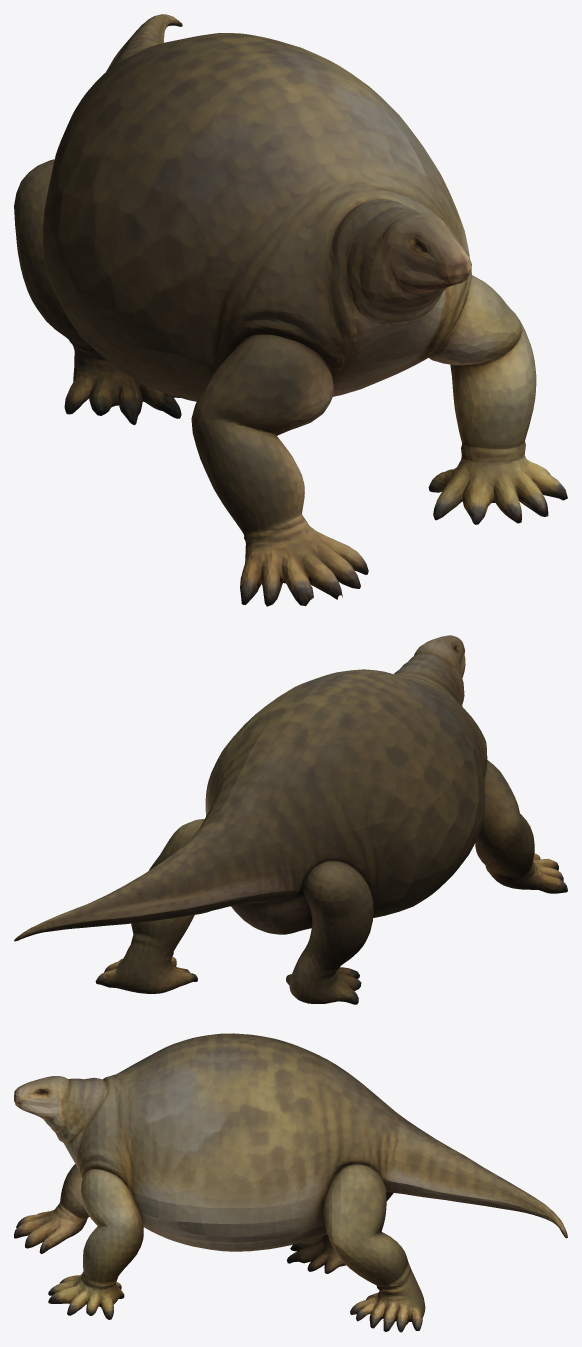
3 views of the same model, one above another, from view 1: azimuth 30°, elevation 25°; view 2: azimuth 150°, elevation 25°; view 3: azimuth 270°, elevation 25° (orthographic). The views are drawn at different scales.
Parts seen in each view (by area): view 1: world; view 2: world; view 3: world.
Part boxes in pixels (x1,y1,x2,y2): world: (14,14,567,606); world: (14,635,567,1004); world: (14,1033,567,1332).
Bounding box in the file's own units: 2.44 × 2.3 × 5.
1 material, 1 textured.
